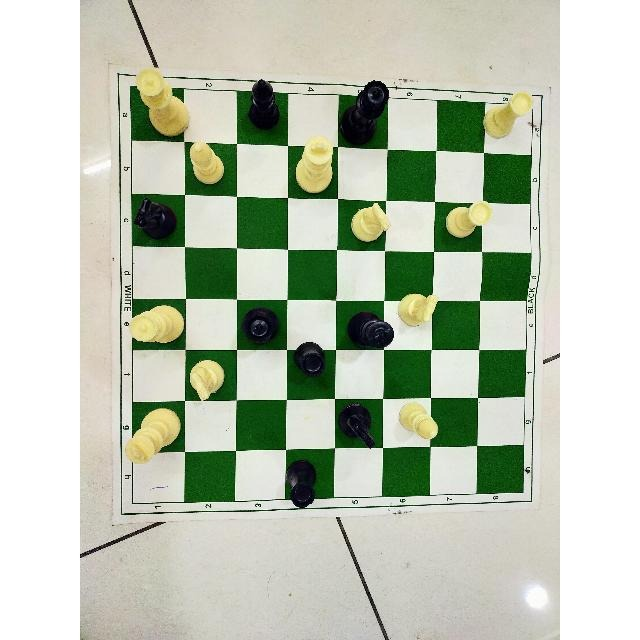black-bishop: (239, 80, 285, 134), (240, 306, 282, 344)
black-king: (343, 306, 397, 356)
black-knight: (335, 395, 383, 449), (131, 198, 176, 240)
black-queen: (335, 79, 389, 143)
black-rook: (282, 455, 320, 509), (294, 335, 326, 377)
white-bishop: (186, 138, 228, 190), (393, 401, 437, 447)
white-king: (125, 402, 183, 466), (291, 131, 334, 193)
white-knight: (350, 197, 392, 246), (394, 282, 436, 331), (189, 355, 231, 403)
white-queen: (130, 67, 190, 138), (126, 300, 188, 348)
white-rook: (481, 91, 535, 138), (440, 200, 495, 246)
